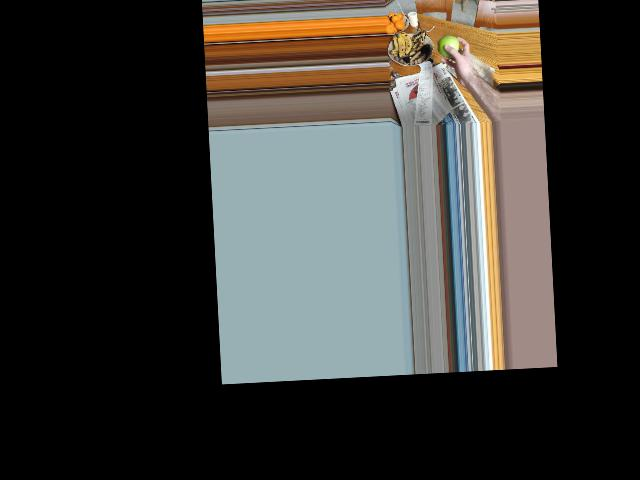apple: (437, 35, 459, 59)
